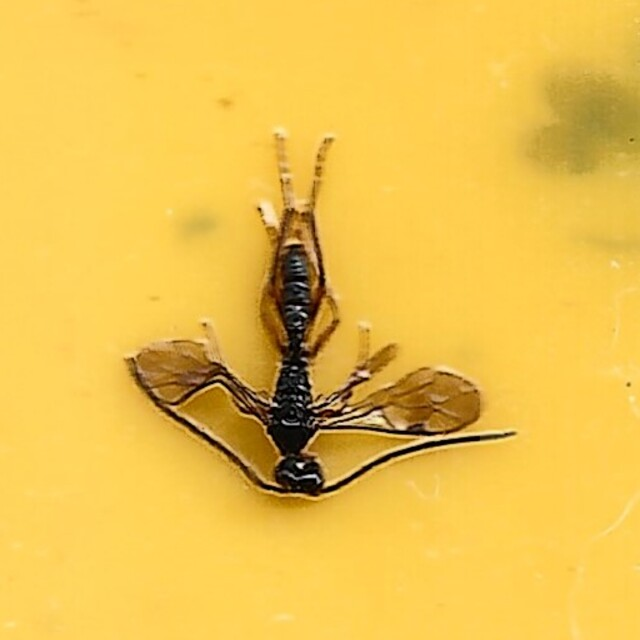Hymenoptera: (125, 133, 515, 507)
